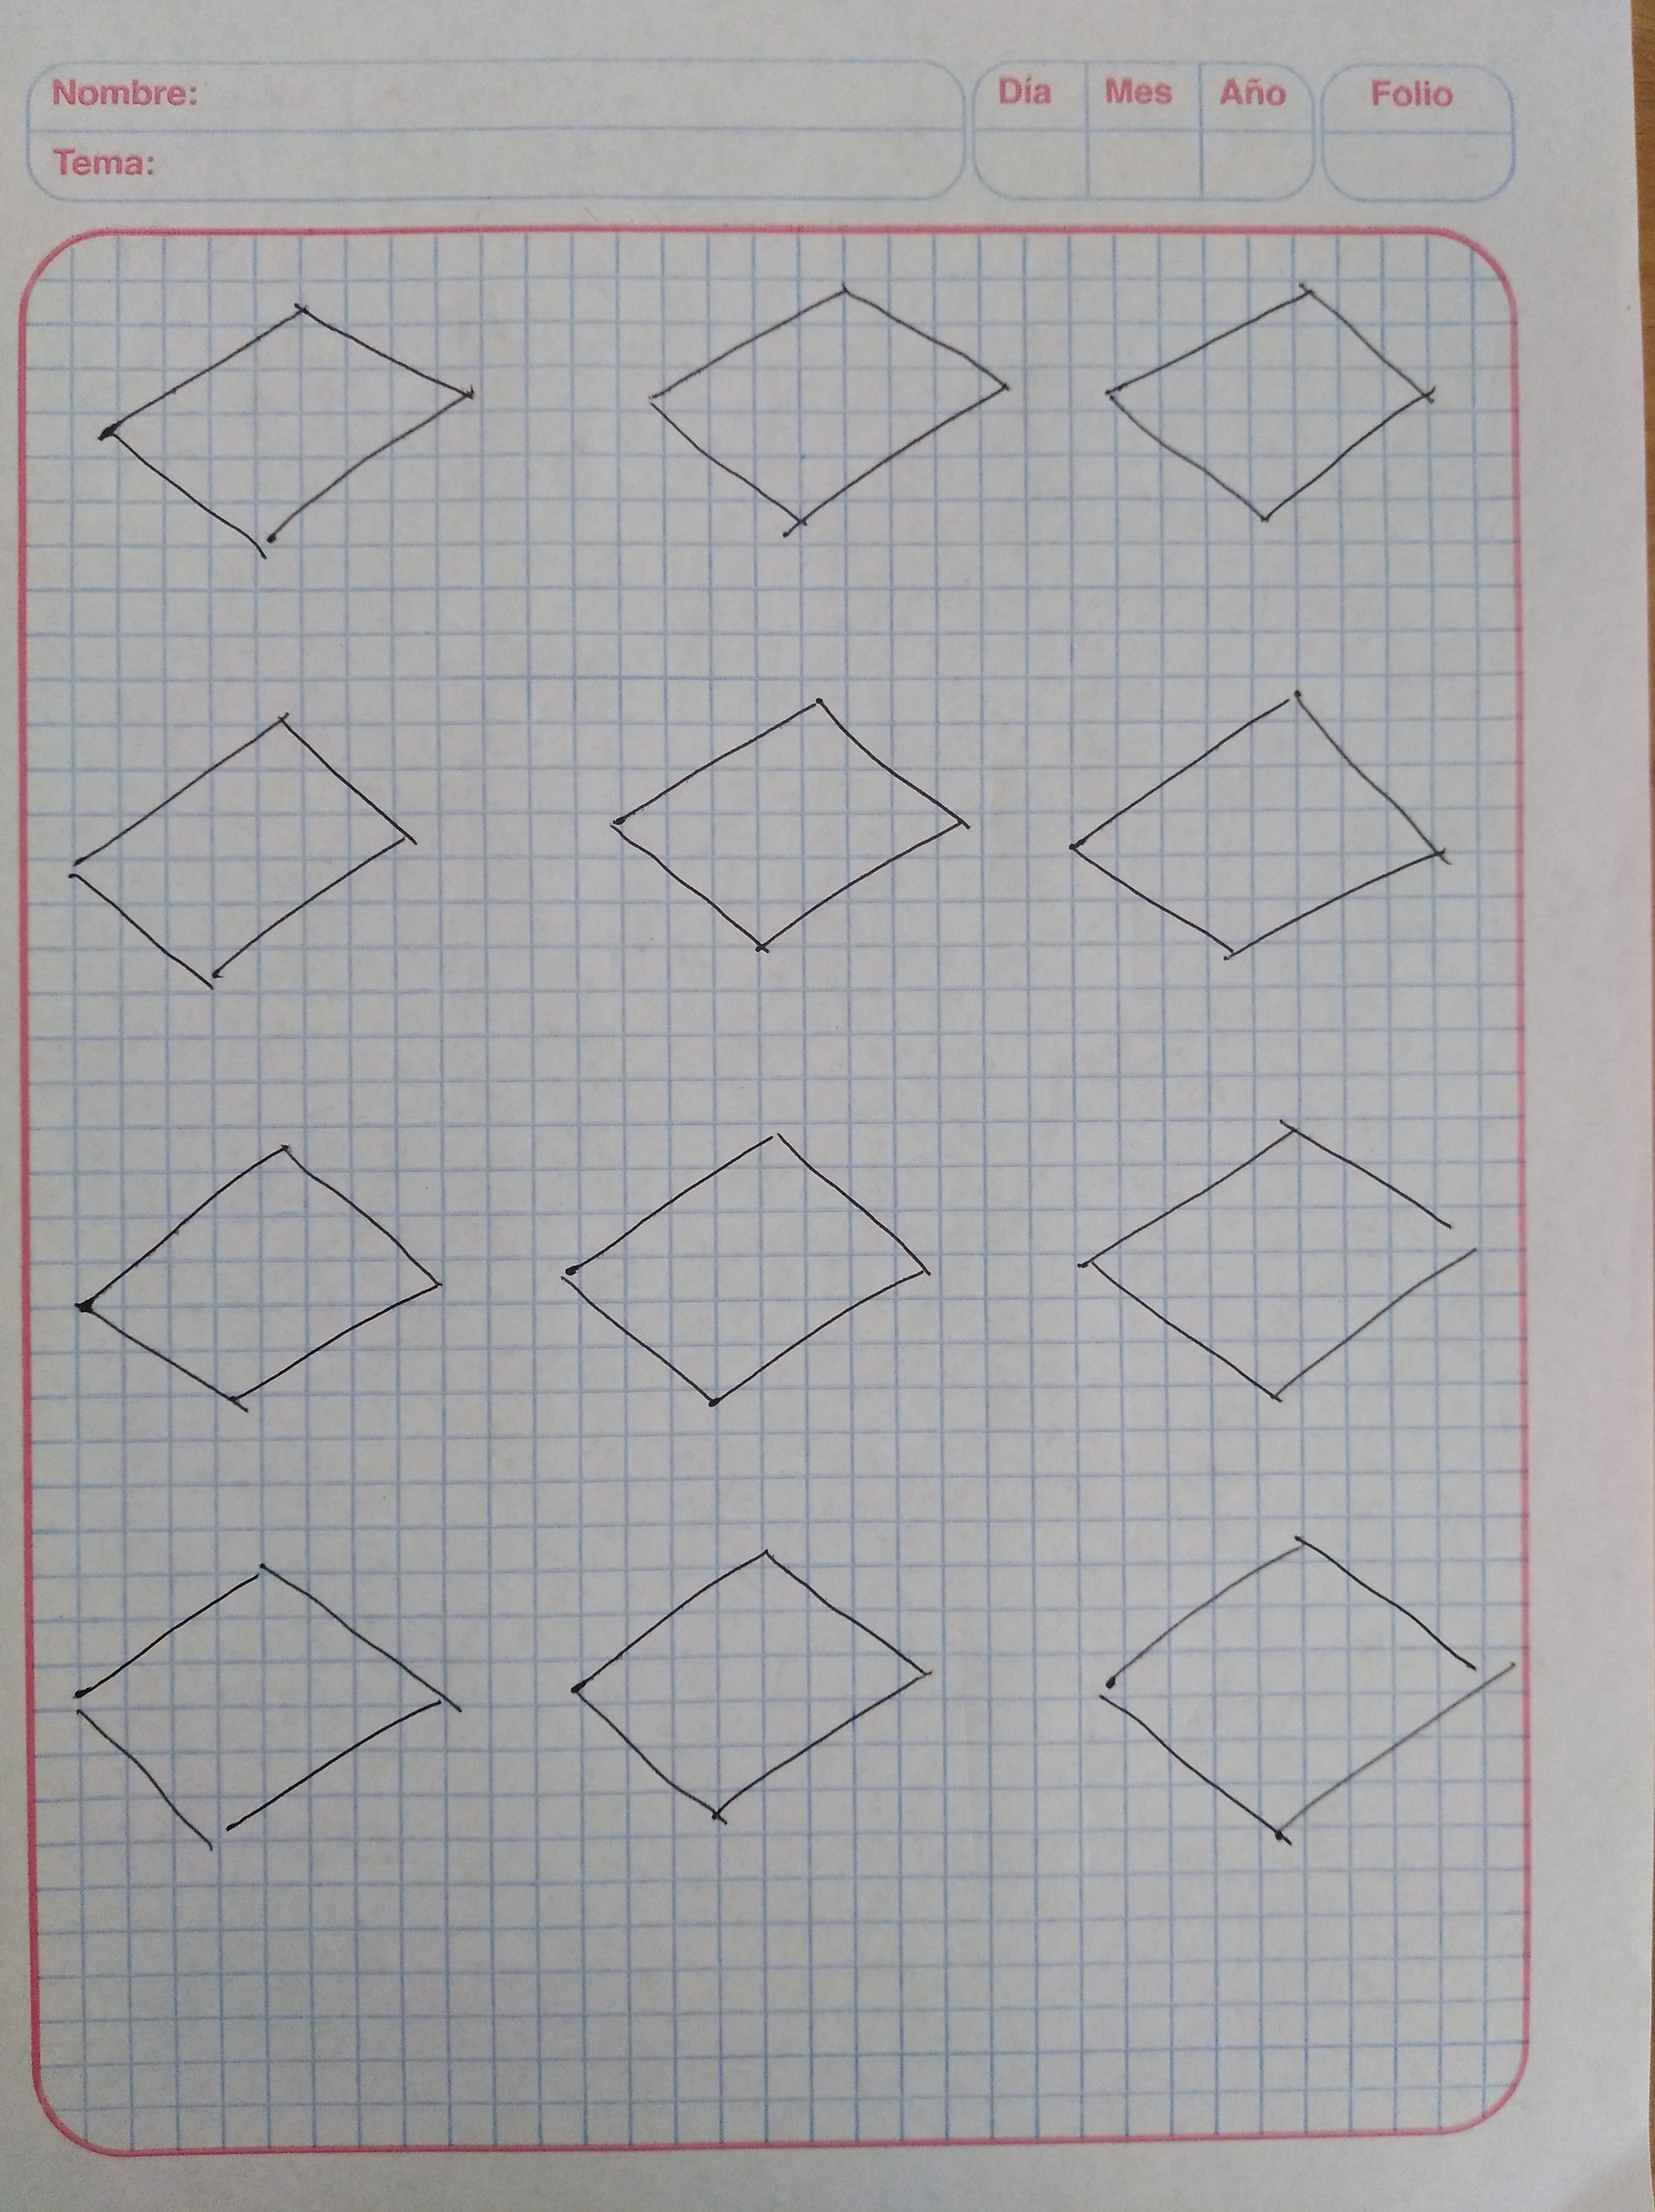decision: (1071, 1498, 1526, 1870), (1050, 1088, 1500, 1442), (45, 1545, 499, 1875), (1040, 648, 1467, 992), (539, 1096, 960, 1435), (76, 255, 504, 582), (42, 1114, 473, 1437), (582, 657, 998, 989), (608, 243, 1029, 563), (551, 1517, 960, 1838), (50, 679, 442, 1006), (1083, 243, 1462, 549)
